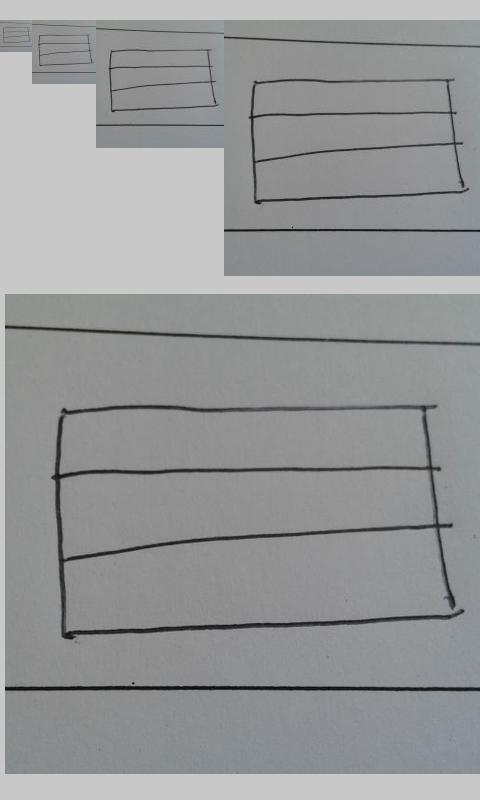list_view: (50, 398, 459, 641), (248, 77, 467, 205), (108, 48, 217, 112), (38, 33, 93, 67), (2, 26, 31, 44)
